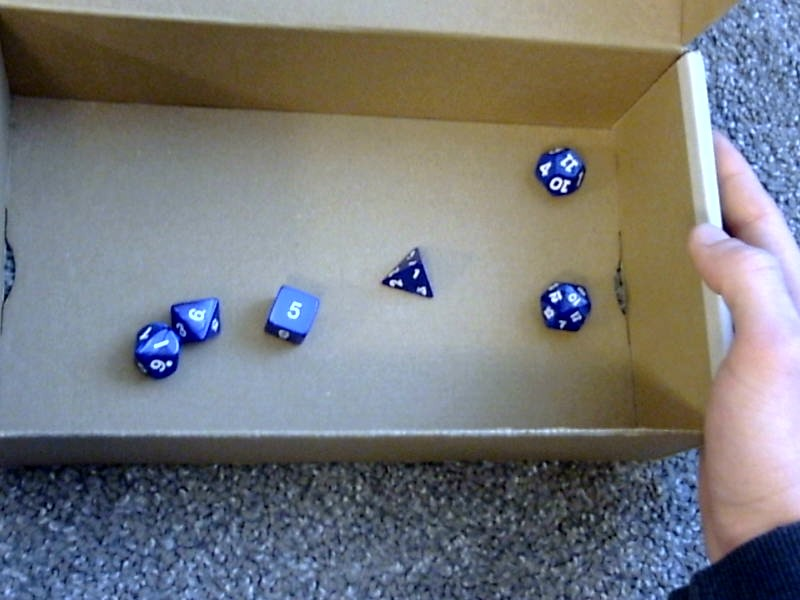d10 1: (119, 324, 177, 382)
d12 11: (532, 138, 589, 203)
d20 10: (536, 279, 594, 335)
d4 1: (379, 240, 435, 302)
d6 5: (261, 279, 320, 349)
d8 6: (173, 291, 226, 340)
